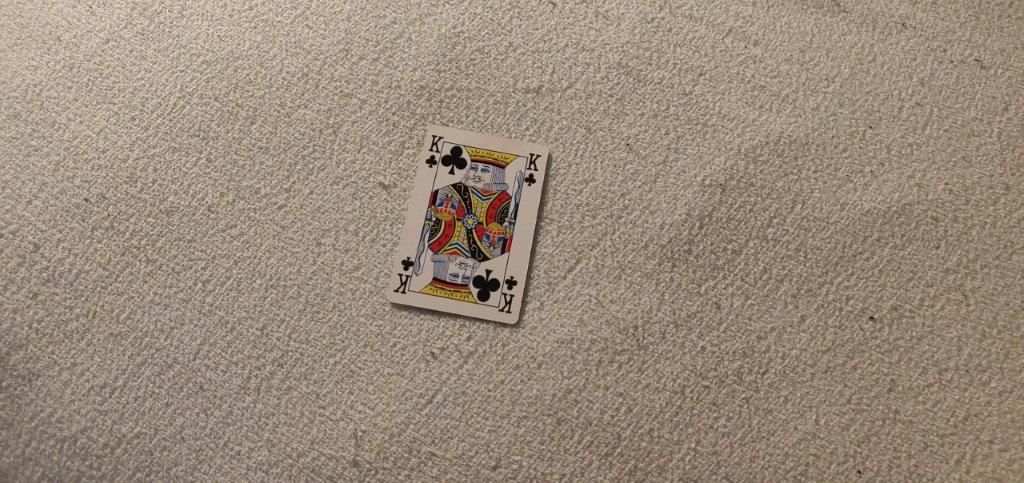KC: (522, 150, 545, 188), (423, 133, 443, 170)
